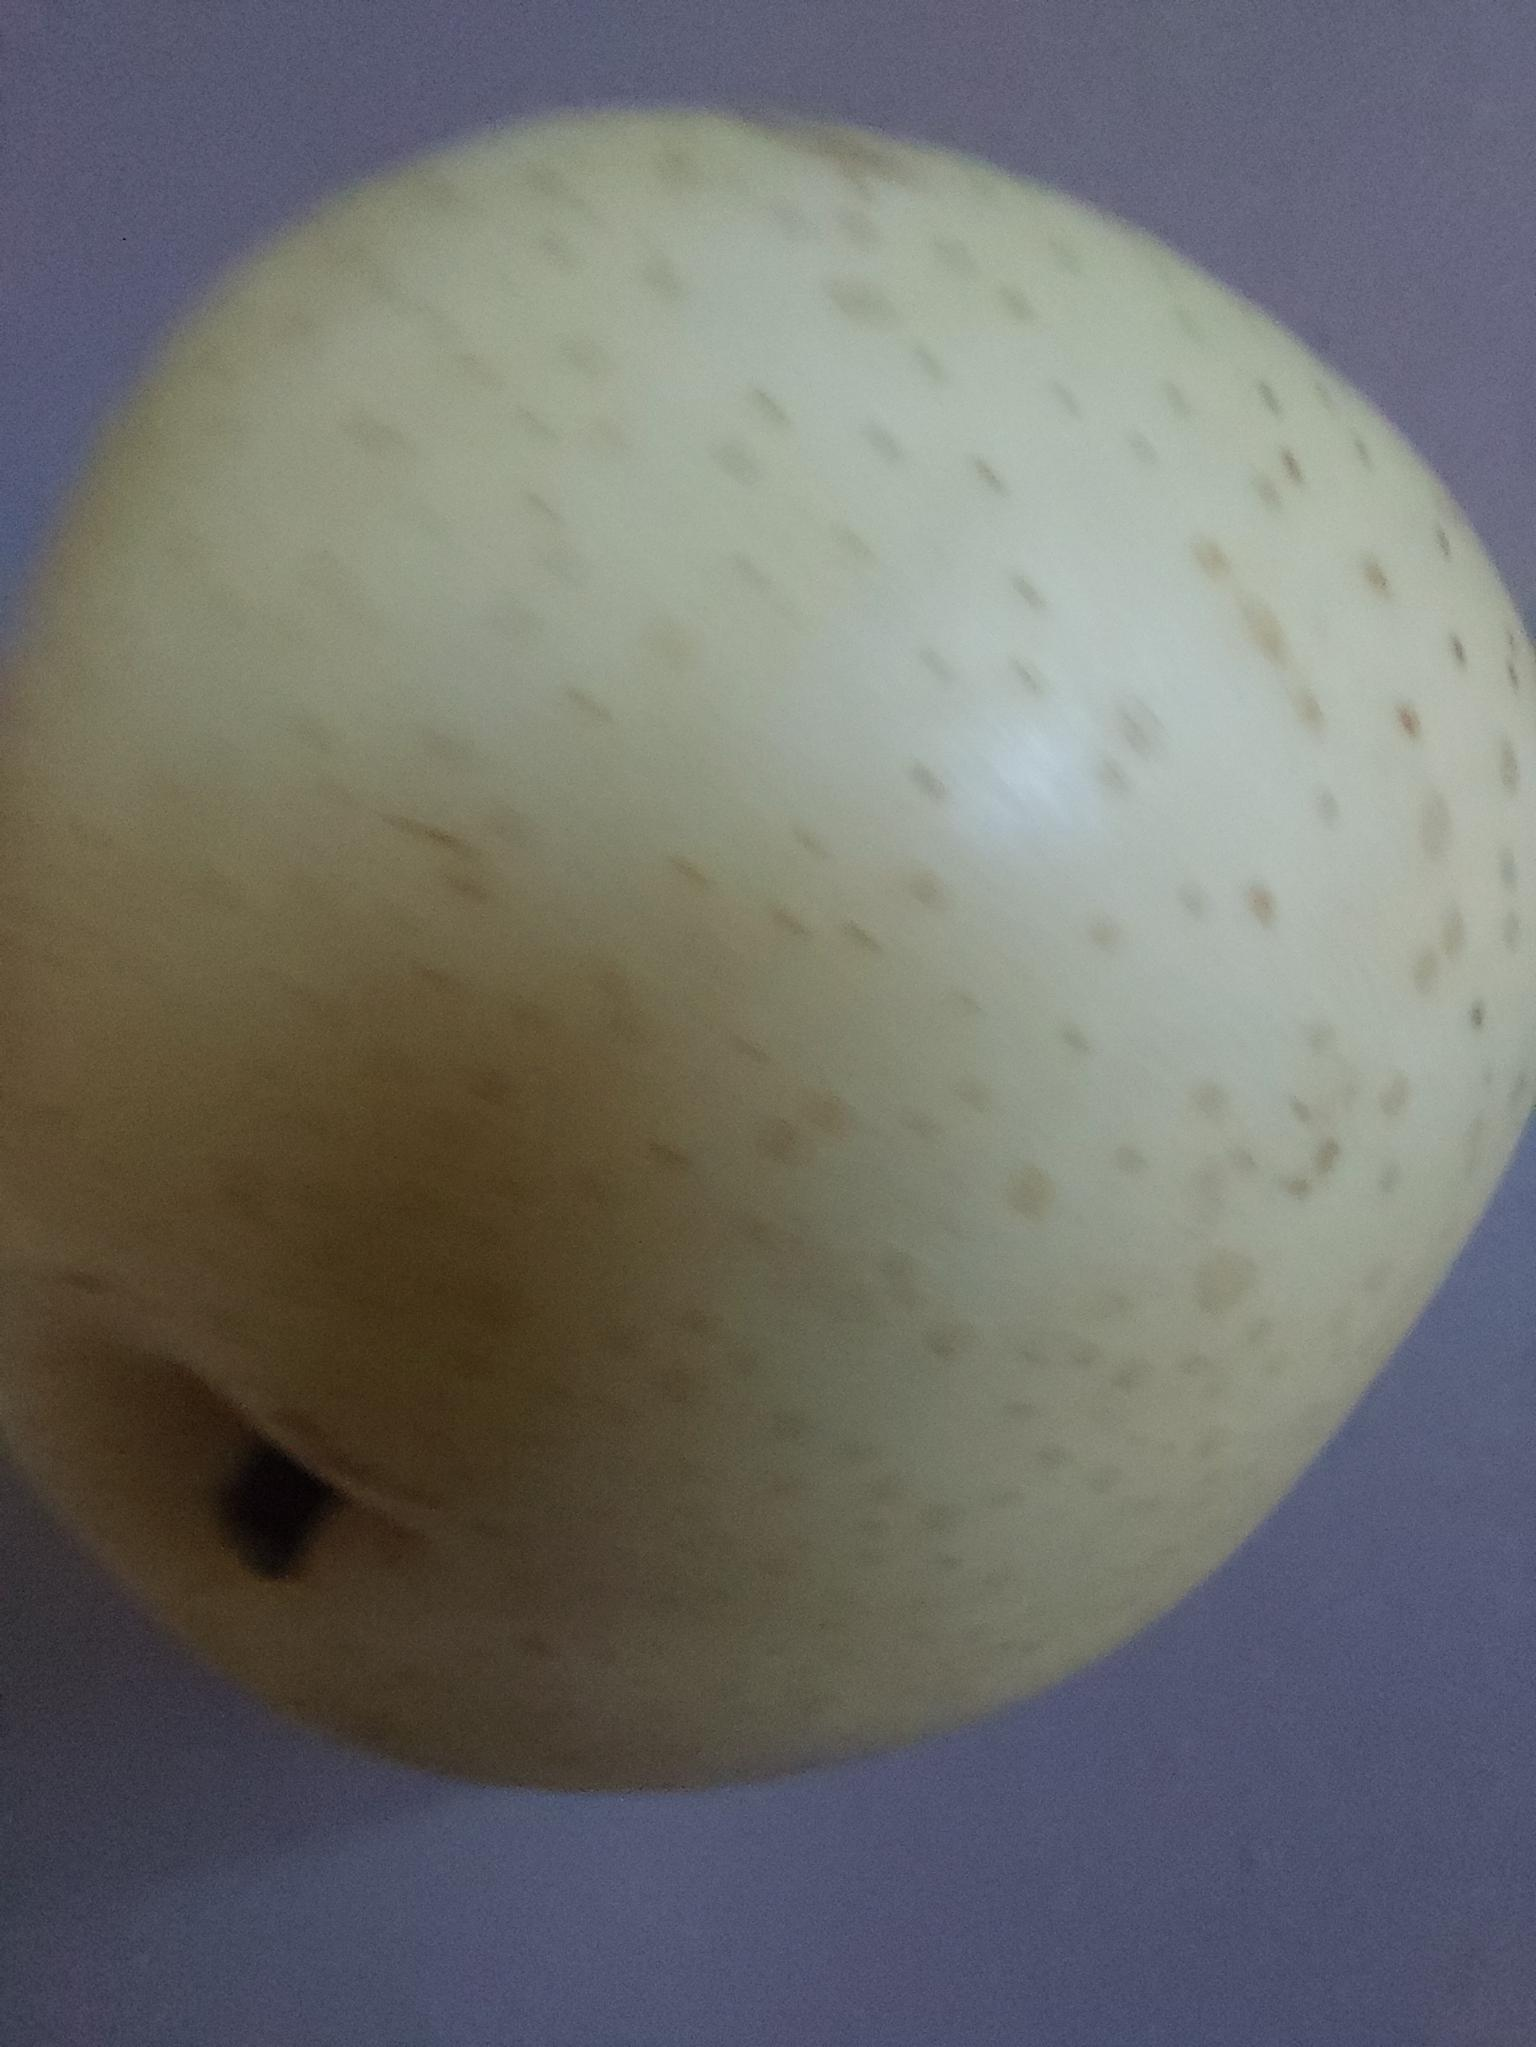Good Pear: (0, 97, 1536, 1795)
